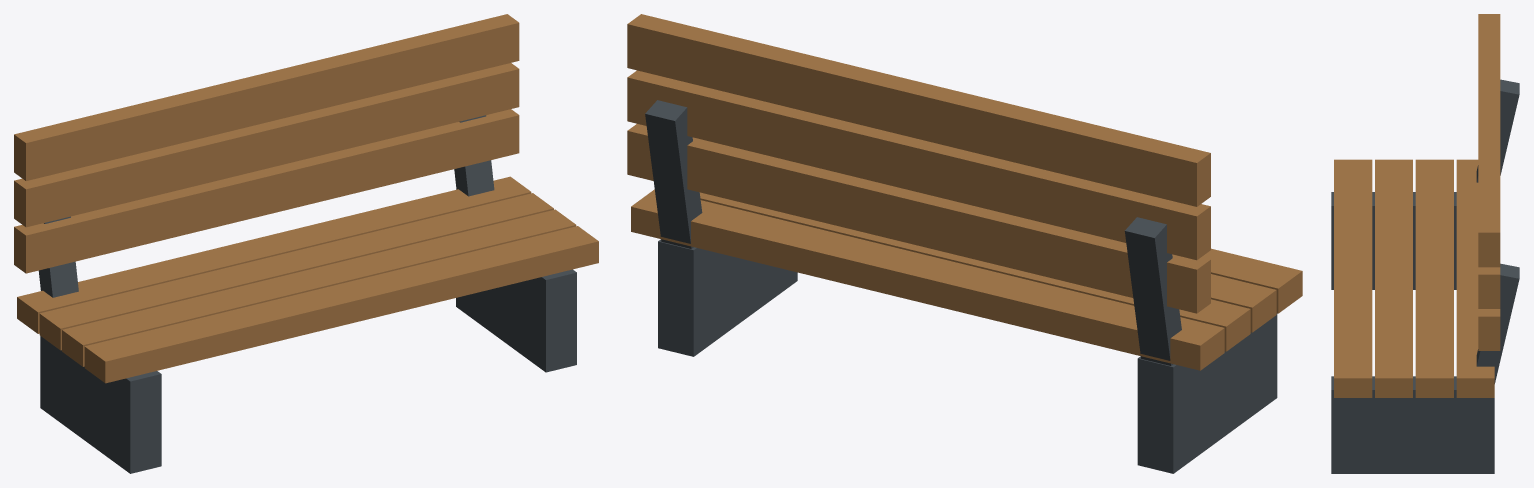
Rendered from bench.glb.
The picture shows the model from 3 angles, left to right: view 1: azimuth 30°, elevation 25°; view 2: azimuth 150°, elevation 25°; view 3: azimuth 270°, elevation 25°; orthographic projection. The views are drawn at different scales.
Visible parts, largest first — view 1: bench; view 2: bench; view 3: bench.
Boxes of the visible parts, <box> form: bench: <box>14,14,598,473</box>; bench: <box>627,14,1302,473</box>; bench: <box>1331,14,1519,473</box>.
Size of the model in its own units: 1.9 by 1.02 by 0.6911.
